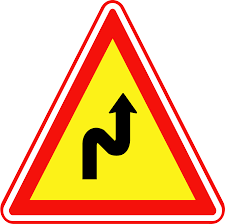Double_bend_right: (5, 2, 225, 221)
